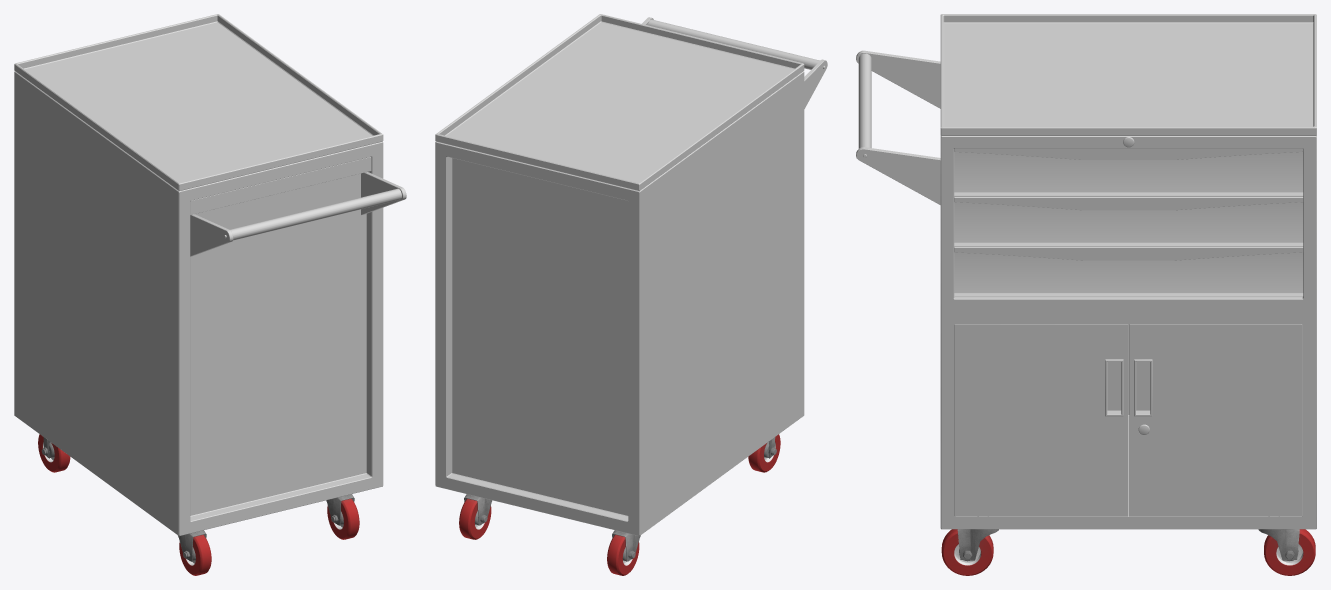
Rendered from FBX_WorkshopTrolley.fbx.
3 renders of one model, left to right at view 1: azimuth 30°, elevation 25°; view 2: azimuth 150°, elevation 25°; view 3: azimuth 270°, elevation 25°, orthographic. The views are drawn at different scales.
Visible parts, largest first — view 1: SM_WorkshopTrolley_h, wheel; view 2: SM_WorkshopTrolley_h, wheel; view 3: SM_WorkshopTrolley_h, wheel.
Boxes of the visible parts, x1,y1,x2,y2 form: SM_WorkshopTrolley_h: (14,14,406,536); wheel: (38,434,359,575); SM_WorkshopTrolley_h: (435,14,827,536); wheel: (459,434,780,575); SM_WorkshopTrolley_h: (856,14,1316,529); wheel: (941,516,1315,575).
Bounding box in the file's own units: 0.4825 × 0.9072 × 0.8205.
